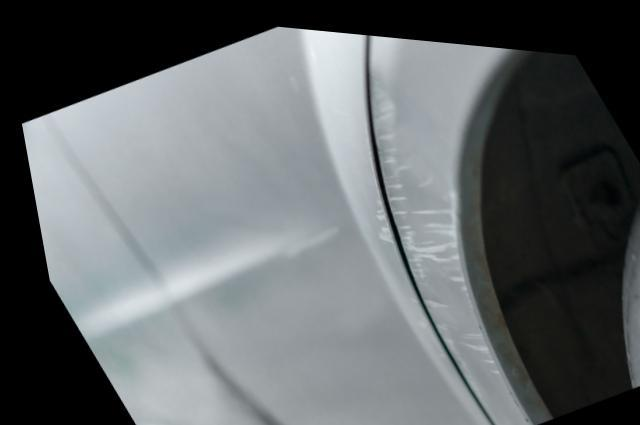scratch: (367, 75, 491, 385)
